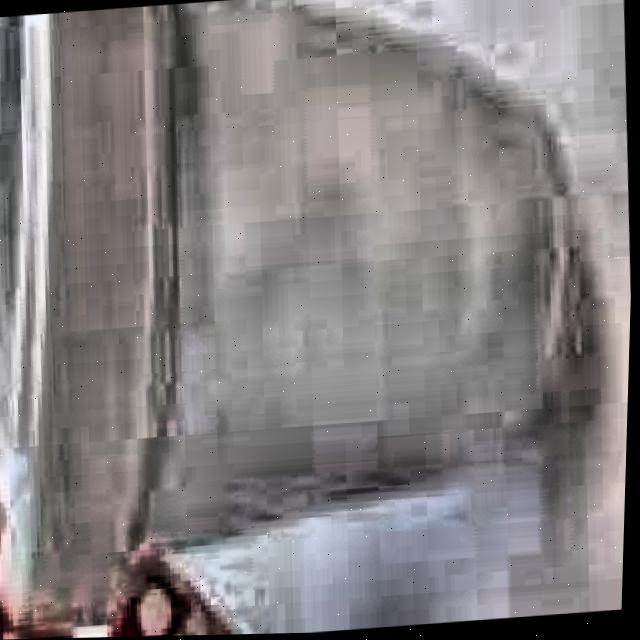paper: (0, 0, 640, 640), (0, 0, 590, 640)
